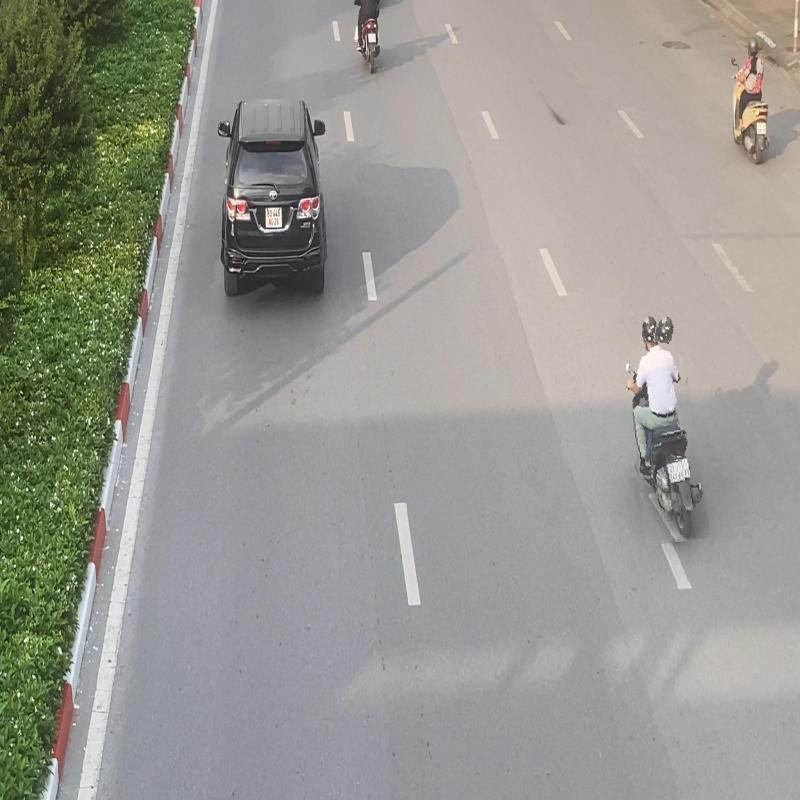helmet: (654, 316, 675, 343)
licenseplate: (668, 460, 684, 484)
motorcyclist: (622, 312, 704, 545)
